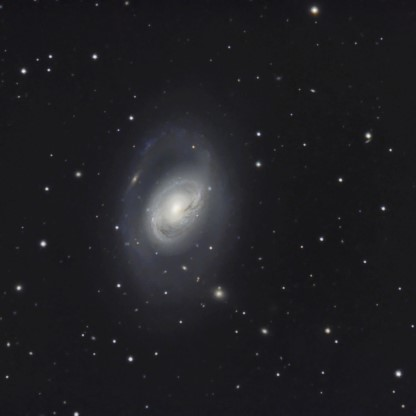Messier 96: (116, 97, 250, 316)
